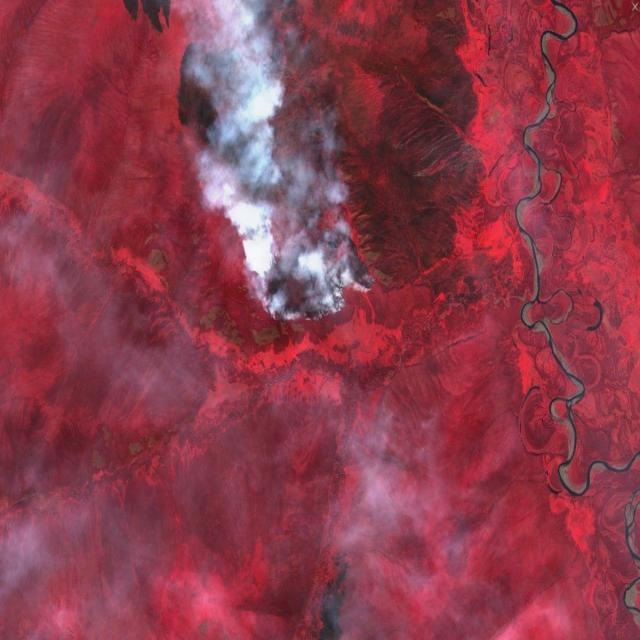fire: (255, 236, 388, 326)
